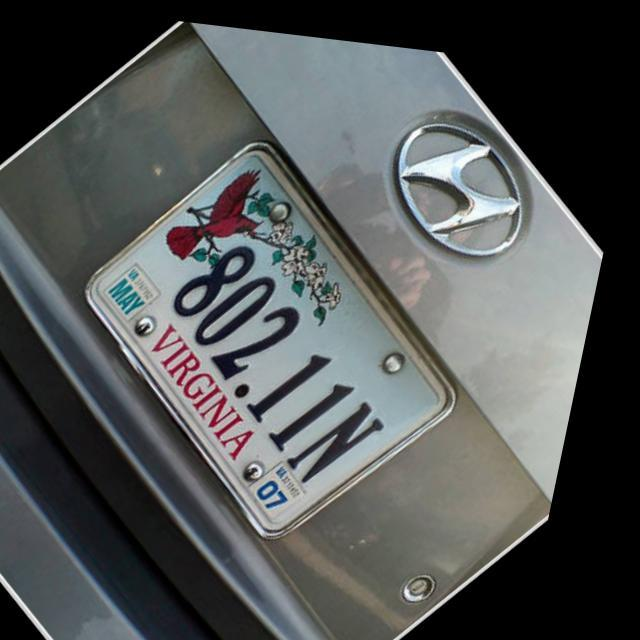license_plate: (49, 118, 503, 538)
